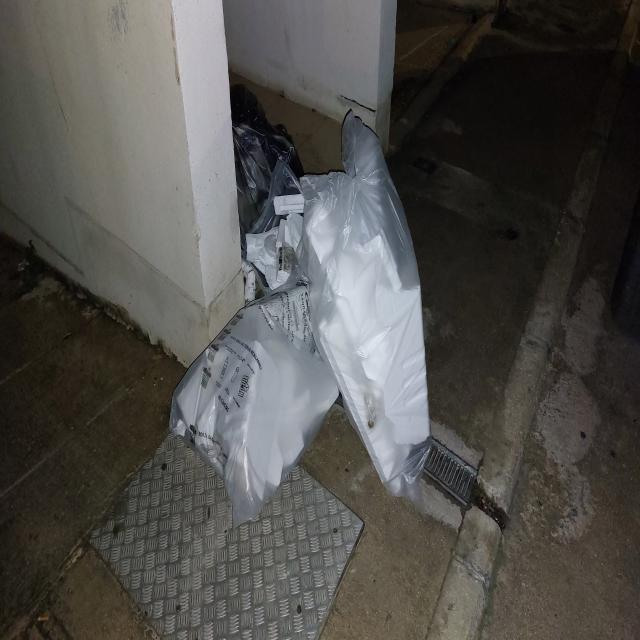Mixed Waste -Black Bag-: (229, 86, 306, 263)
Other: (247, 226, 297, 288), (274, 194, 307, 217)
Recycled Waste -Grey or Green Bag-: (302, 109, 433, 517), (168, 275, 342, 532)
